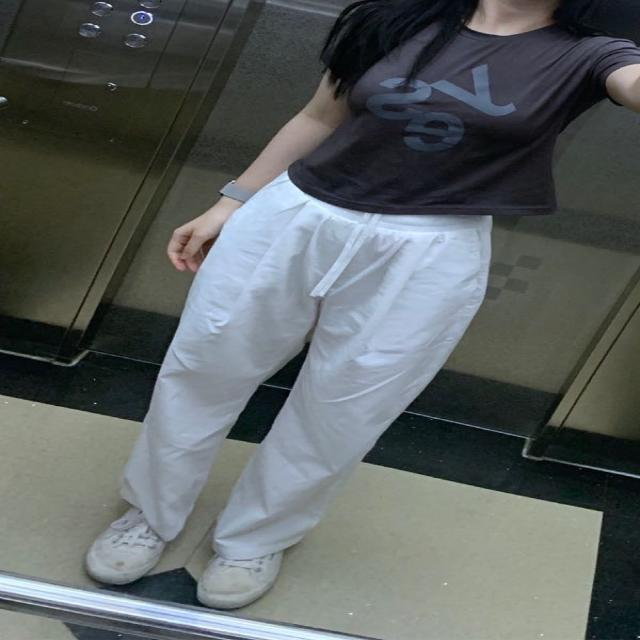cottonpants: (105, 188, 490, 600)
shortsleeve: (250, 0, 636, 213)
